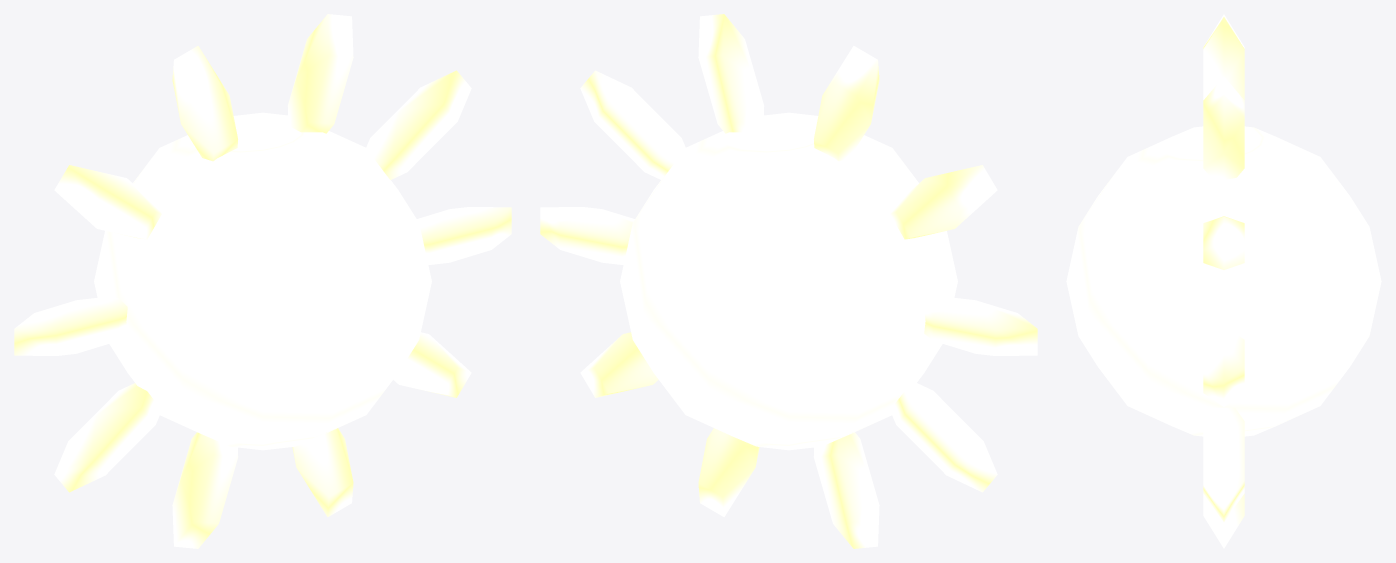
File: xy_bg_sun.glb
3 renders of one model, left to right at view 1: azimuth 30°, elevation 25°; view 2: azimuth 150°, elevation 25°; view 3: azimuth 270°, elevation 25°, orthographic. The views are drawn at different scales.
Parts seen in each view (by area): view 1: SunCore, SunRays; view 2: SunCore, SunRays; view 3: SunCore, SunRays.
Part boxes in pixels (box(x1,y1,x2,y2)): SunCore: box(94, 112, 431, 450); SunRays: box(14, 14, 511, 548); SunCore: box(620, 112, 957, 450); SunRays: box(540, 14, 1037, 548); SunCore: box(1066, 126, 1381, 436); SunRays: box(1203, 14, 1244, 548).
Bounding box in the file's own units: 2.72 × 2.63 × 1.6.
